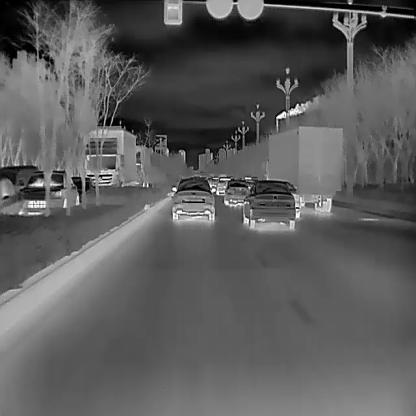car: (243, 181, 296, 230), (21, 171, 78, 214), (170, 176, 214, 219), (2, 166, 39, 214), (68, 173, 94, 203), (224, 179, 247, 204)
truck: (262, 125, 341, 211), (81, 125, 134, 189), (131, 143, 150, 186)
